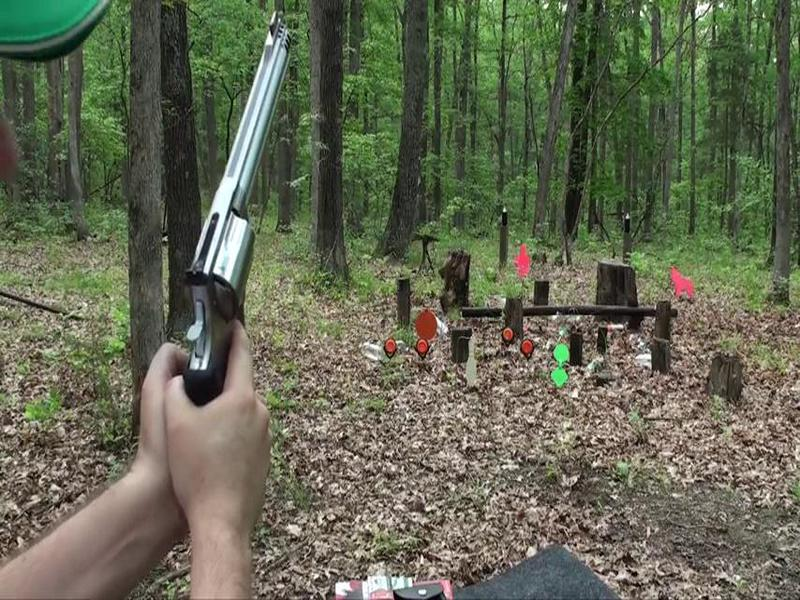Revolver: (131, 14, 310, 416)
